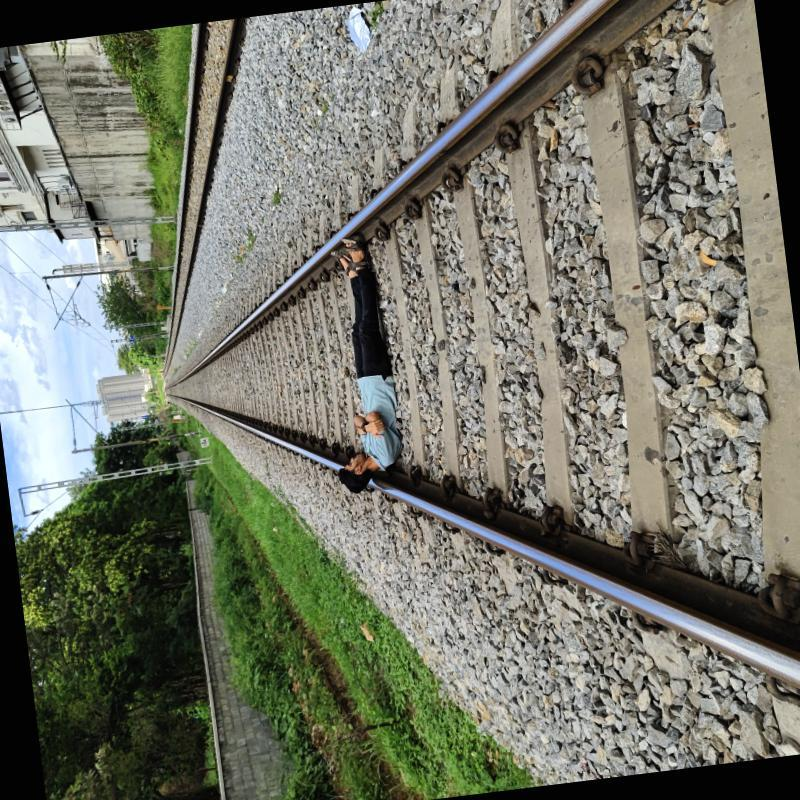sleeping: (306, 226, 410, 503)
